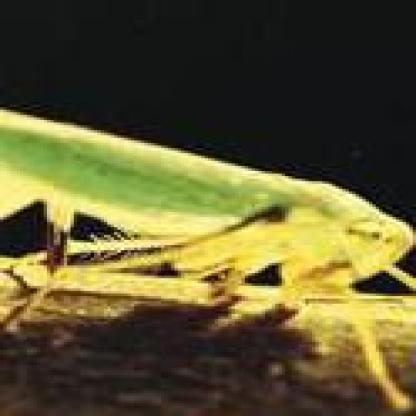Green-Leafhopper: (0, 107, 416, 355)
